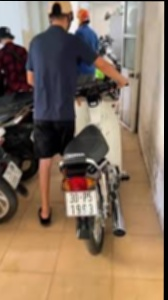Bien-so: (70, 181, 101, 208), (7, 152, 27, 180)
